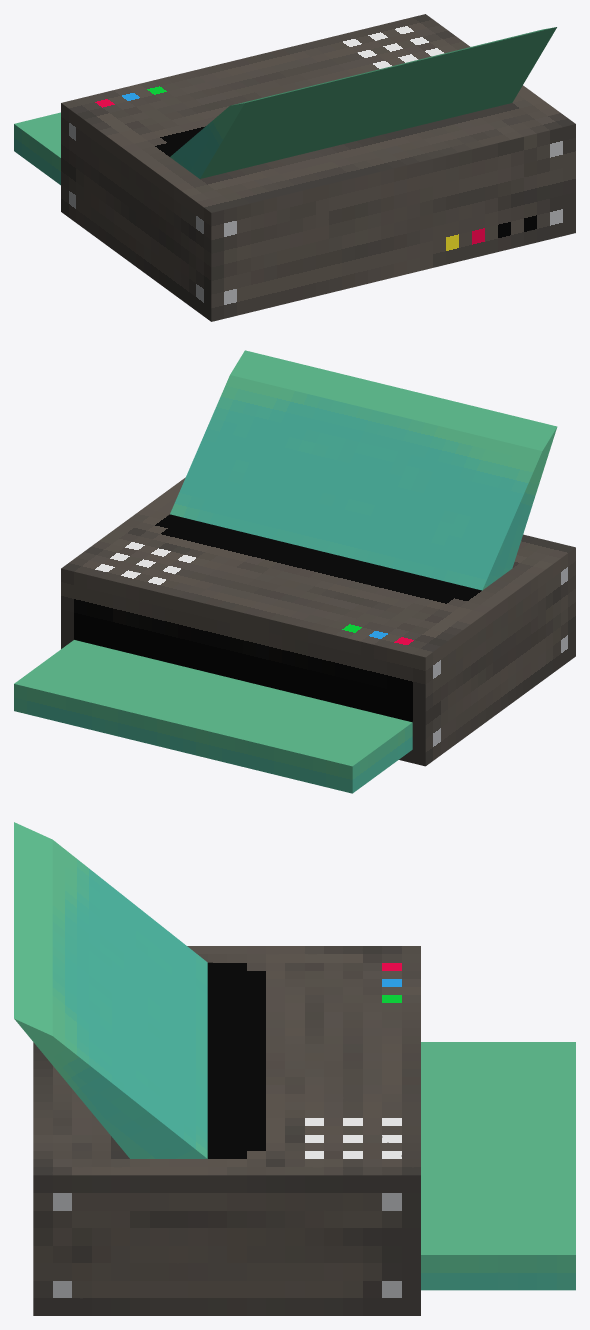
Rendered from Fax.gltf.
The picture shows the model from 3 angles, top to bottom: view 1: azimuth 30°, elevation 25°; view 2: azimuth 150°, elevation 25°; view 3: azimuth 270°, elevation 25°; orthographic projection. The views are drawn at different scales.
Parts seen in each view (by area): view 1: mesh; view 2: mesh; view 3: mesh.
Part boxes in pixels (left/top/right/bottom): mesh: left=14, top=14, right=575, bottom=321; mesh: left=14, top=350, right=575, bottom=793; mesh: left=14, top=822, right=575, bottom=1315.
Bounding box in the file's own units: 1.75 × 1 × 1.81.
1 material, 1 textured.
